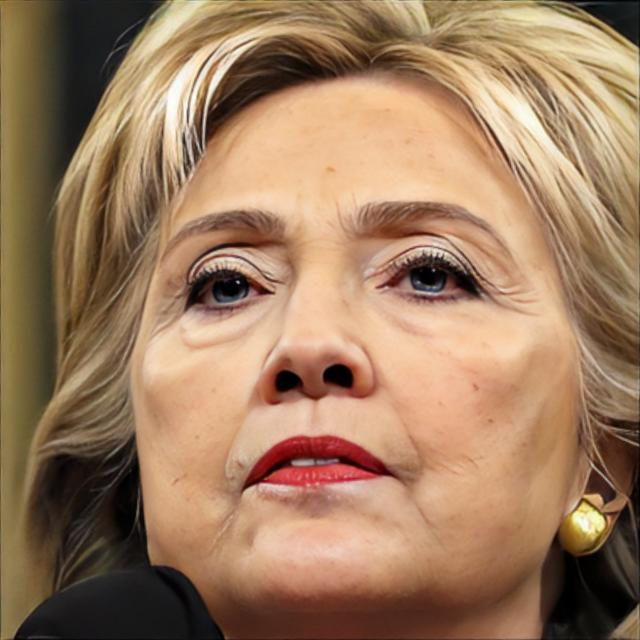anger: (117, 57, 576, 609)
